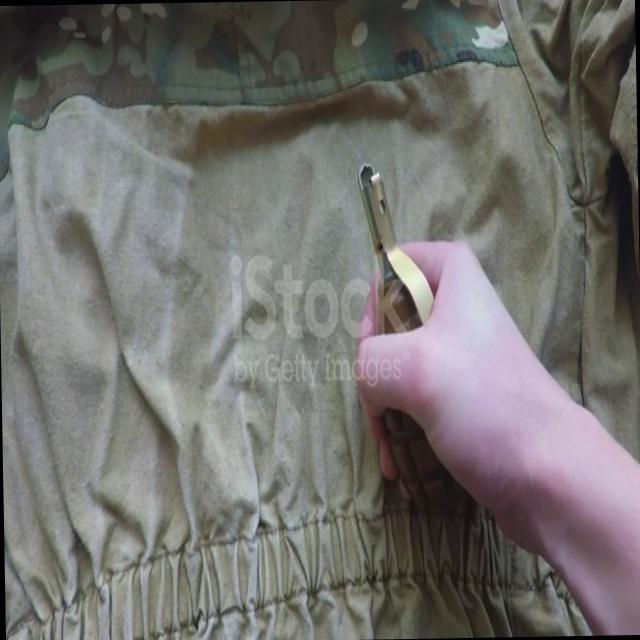grenade: (352, 157, 466, 523)
